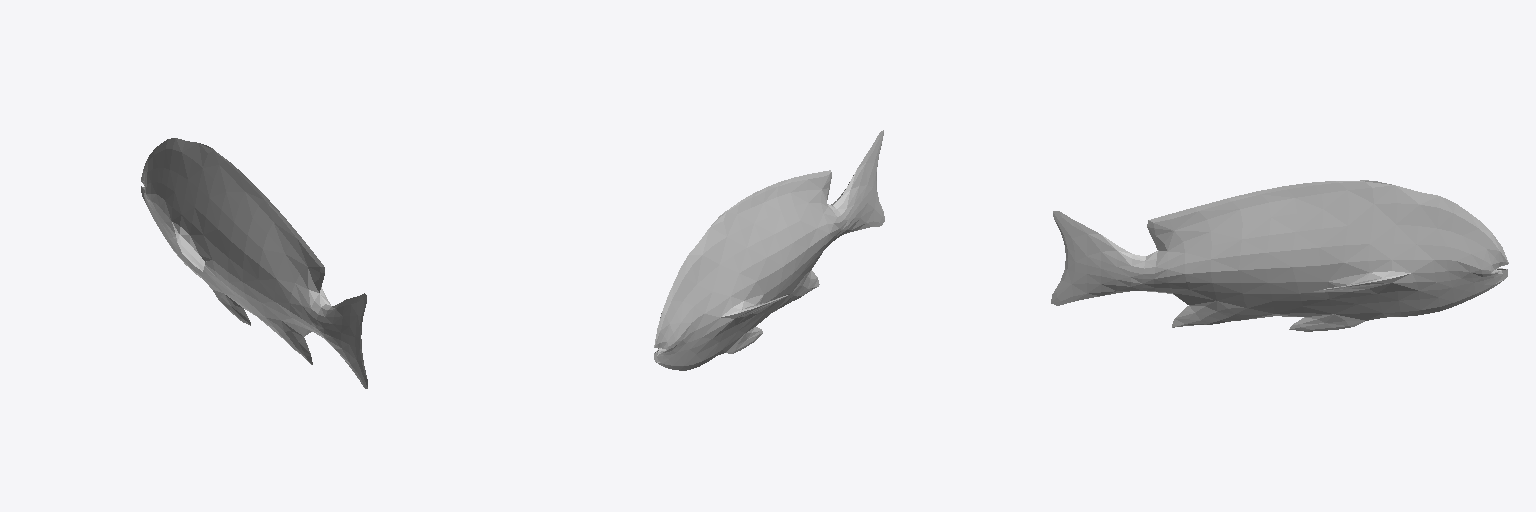
Rendered from stripedfish1banim.obj.
The picture shows the model from 3 angles: view 1: azimuth 30°, elevation 25°; view 2: azimuth 150°, elevation 25°; view 3: azimuth 270°, elevation 25°; orthographic projection.
Visible parts, largest first — view 1: Plane; view 2: Plane; view 3: Plane.
Part boxes in pixels (left/top/right/bottom): Plane: left=141, top=138, right=367, bottom=388; Plane: left=654, top=130, right=884, bottom=370; Plane: left=1051, top=180, right=1508, bottom=331.
Size of the model in its own units: 1.89 by 3.19 by 8.75.